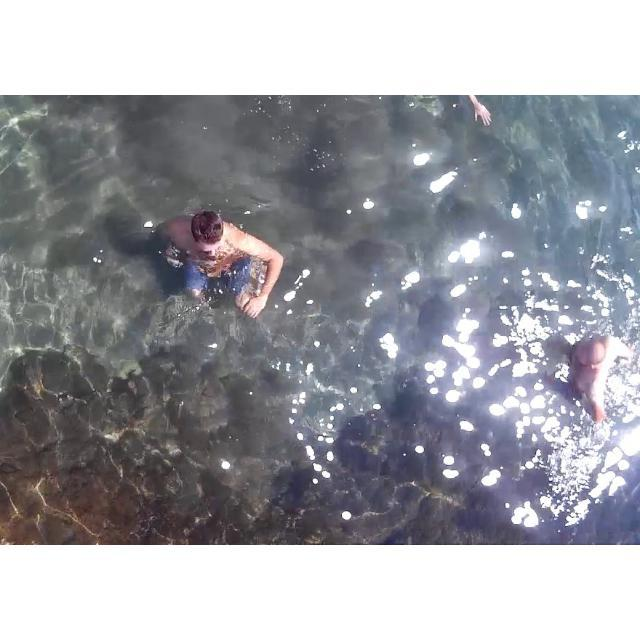human: (138, 189, 293, 324), (549, 303, 638, 417)
